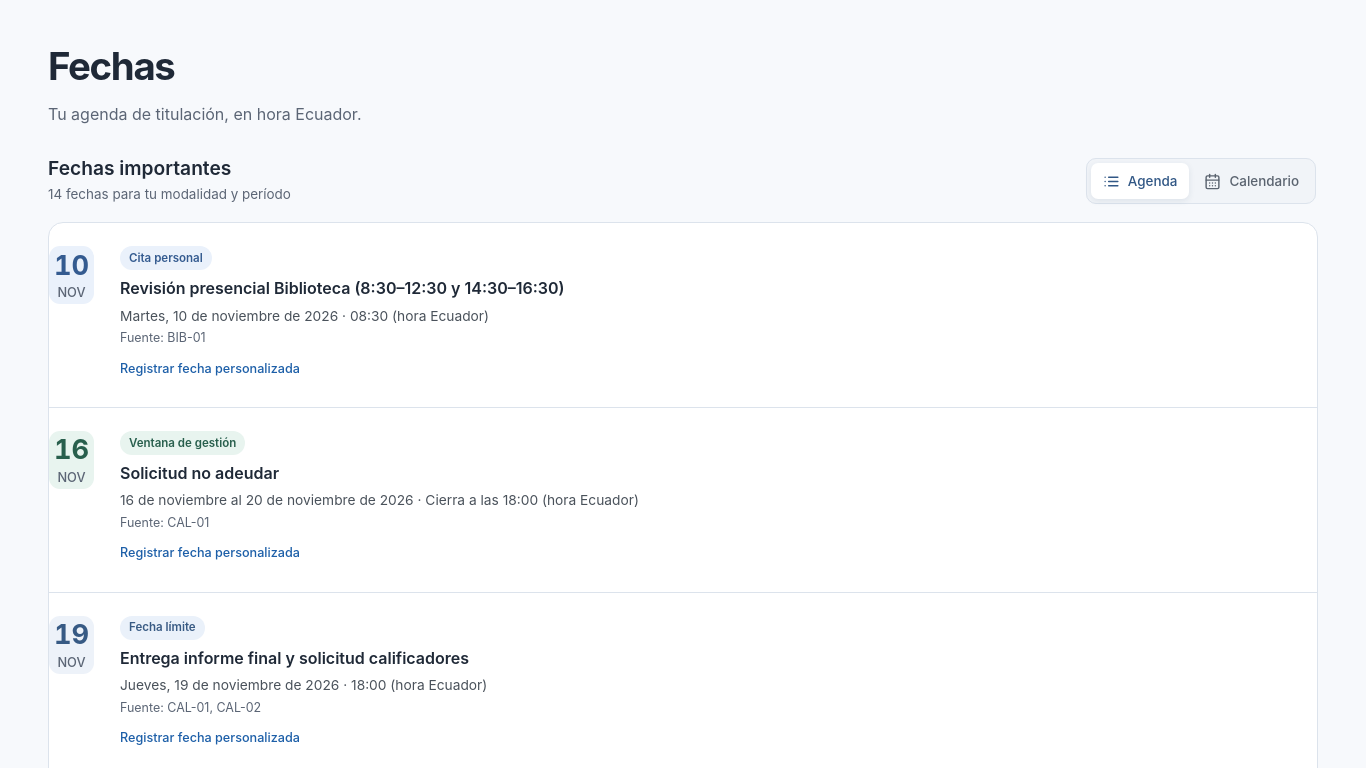
Test: shows one calendar view at a time and starts with the agenda in date order
Expected: the element with class "agenda-row" shows "Revisión presencial Biblioteca", [120, 278, 565, 298]
Click the button "Calendario" at (1252, 181), box [1192, 163, 1311, 199]
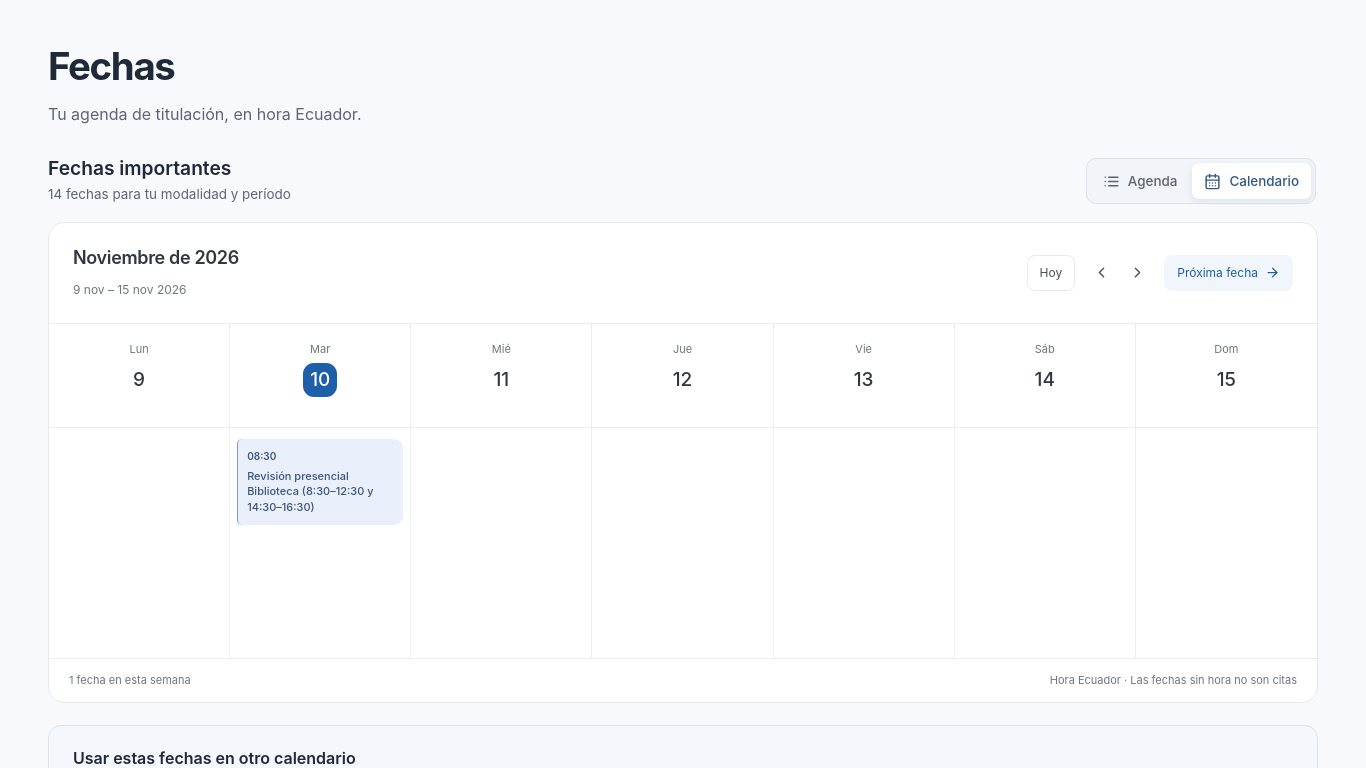
Expected: the text "Revisión presencial Biblioteca (8:30–12:30 y 14:30–16:30)" is shown, [247, 469, 394, 515]
Result: the element named "Calendario semanal de titulación" is shown at [48, 222, 1318, 702]
Result: the element with class "agenda-row" is gone
Click the button "Agenda" at (1140, 181), box [1091, 163, 1189, 199]
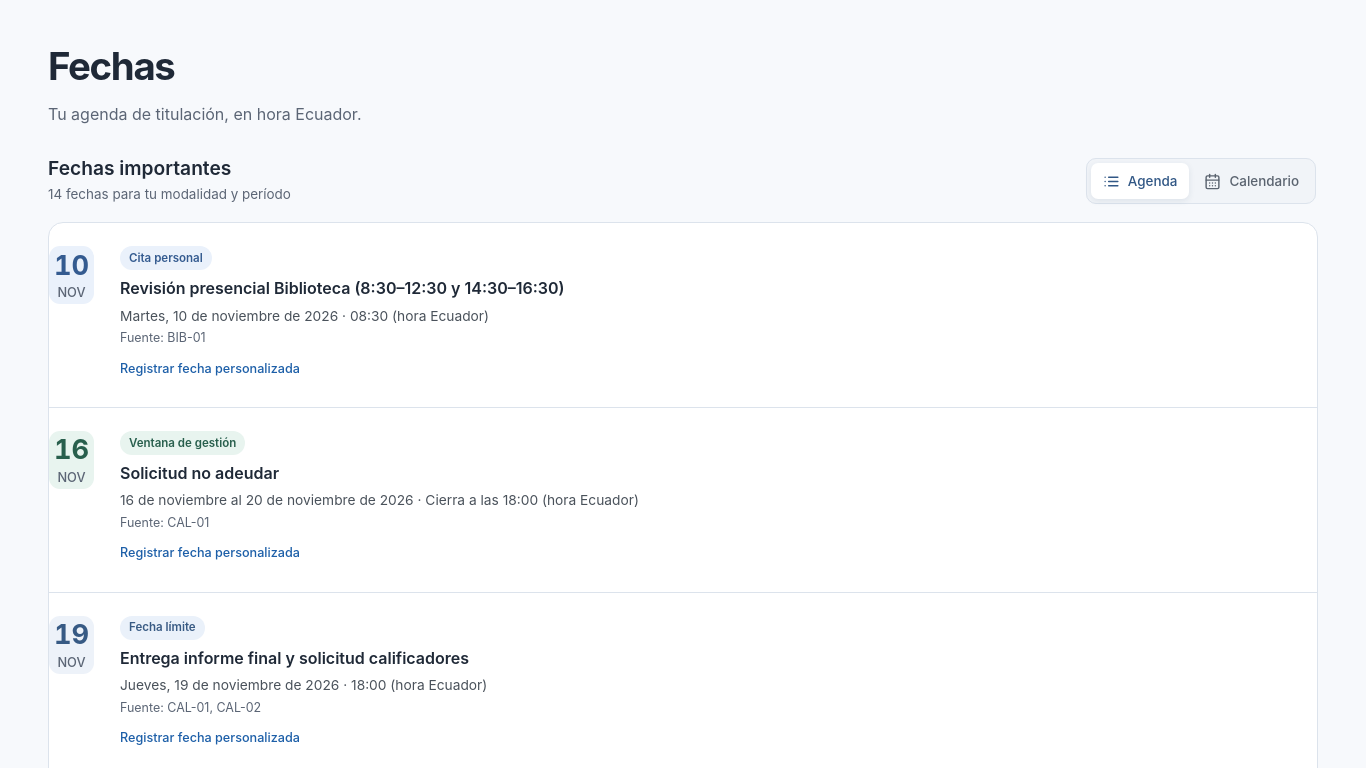
Result: the element with class "agenda-row" shows "Revisión presencial Biblioteca" at [120, 278, 565, 298]
